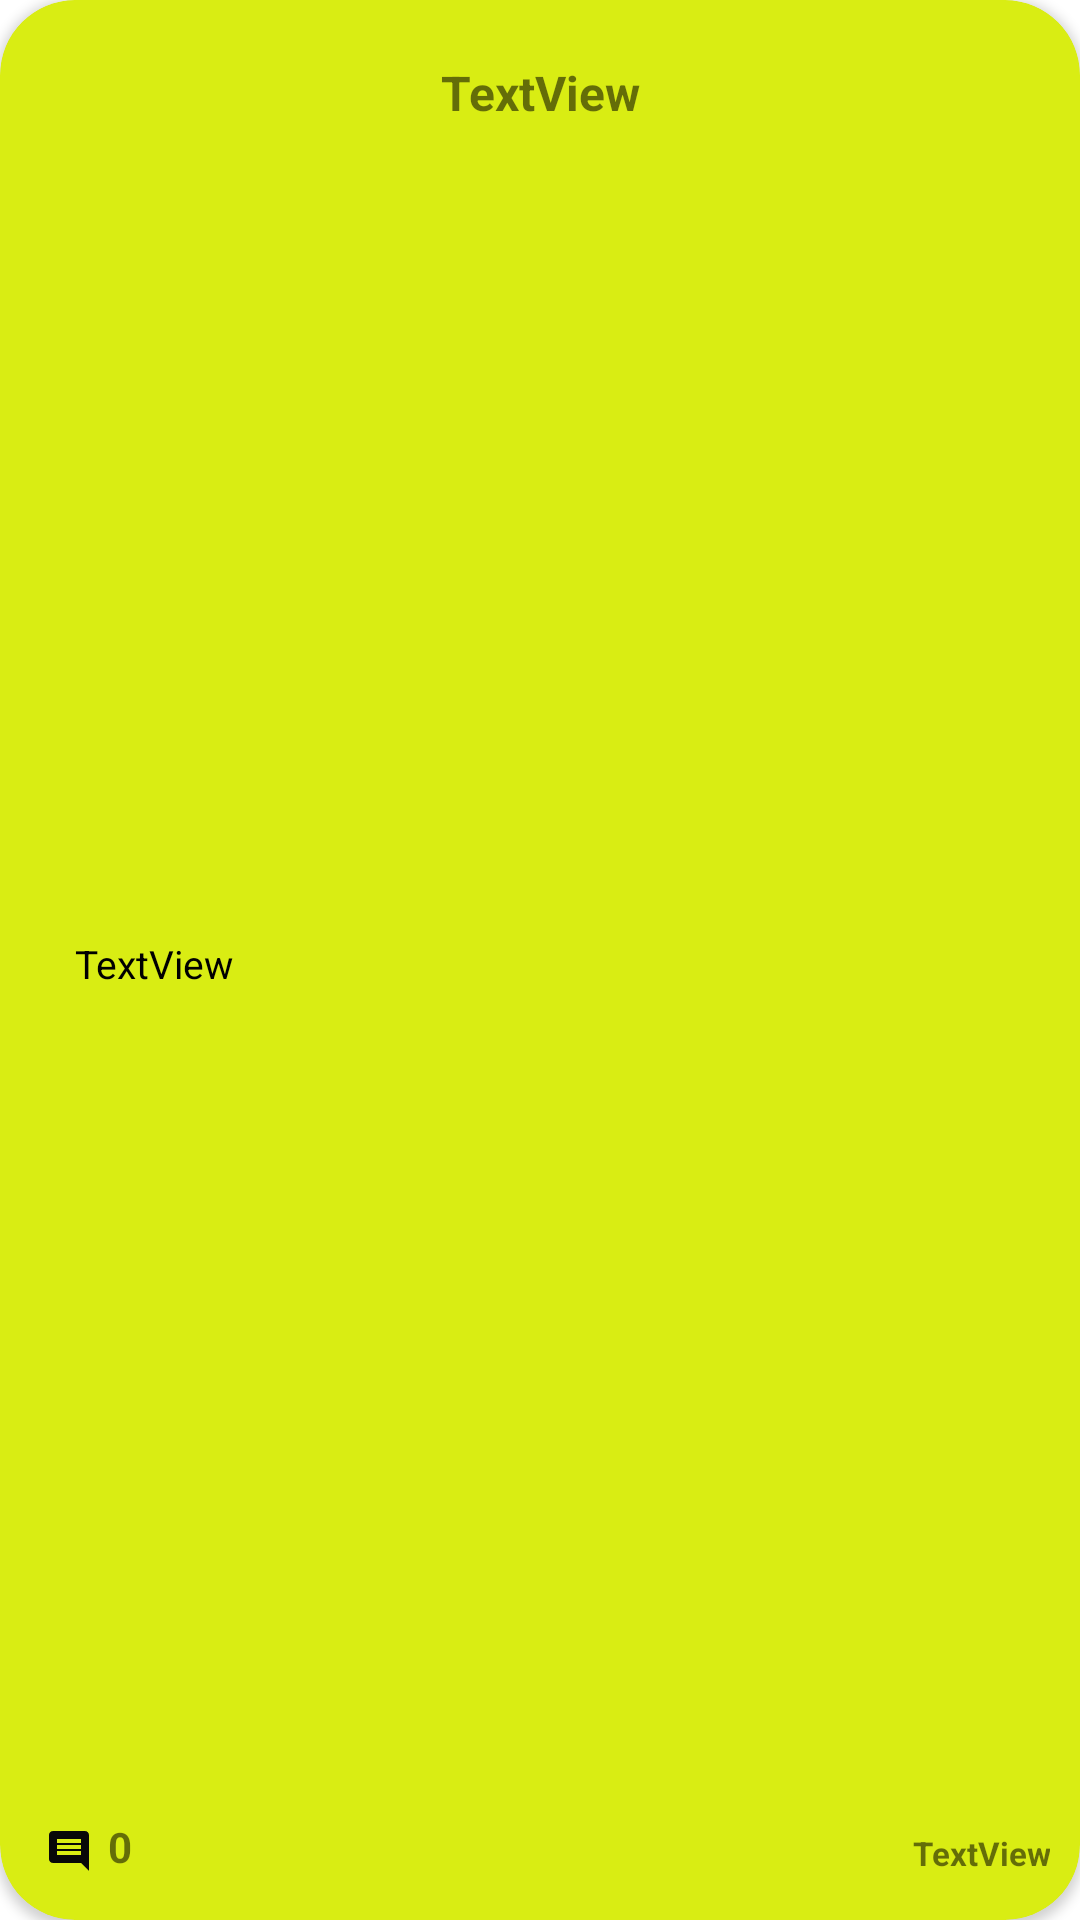

Screen size 1080*1920. Icon name, then its box in pixels as (x1, y1, x2, y2):
comment: (49, 1831, 89, 1871)
